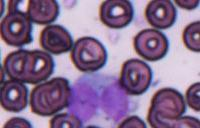M: (67, 72, 132, 124)
